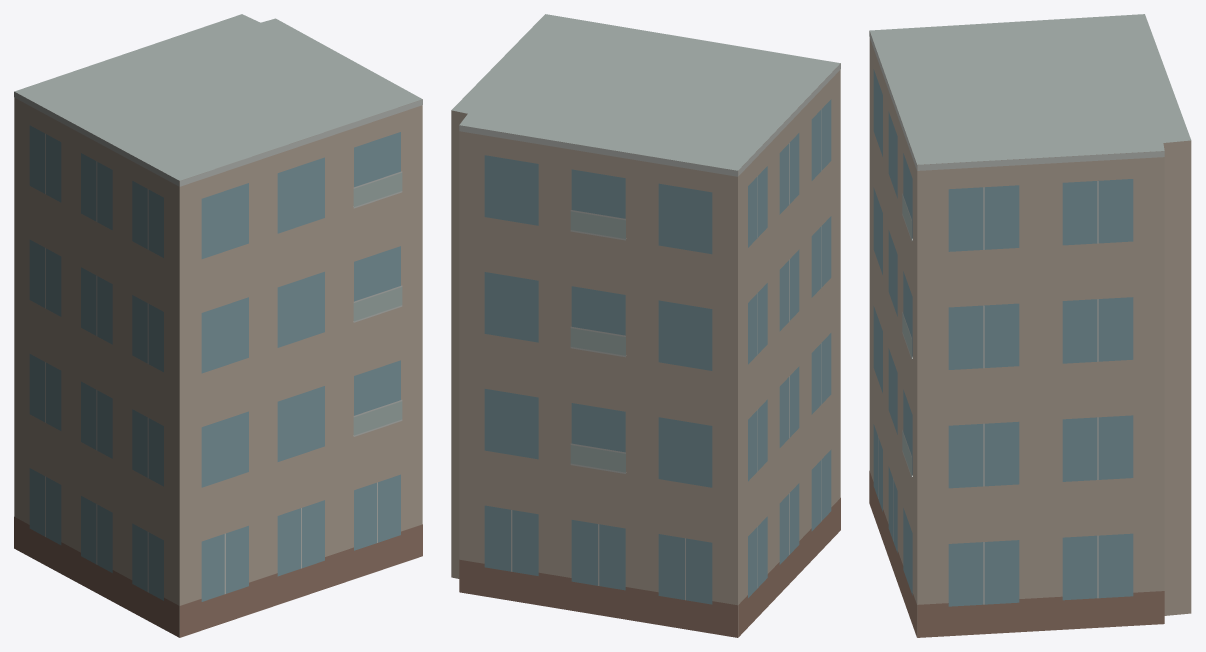
File: survey-upis-32740408.glb
3 views of the same model, side by side, from view 1: azimuth 30°, elevation 25°; view 2: azimuth 150°, elevation 25°; view 3: azimuth 270°, elevation 25° (orthographic). The views are drawn at different scales.
Visible parts, largest first — view 1: survey-upis-32740408.tmp; view 2: survey-upis-32740408.tmp; view 3: survey-upis-32740408.tmp.
Part boxes in pixels (box(x1,y1,x2,y2)): survey-upis-32740408.tmp: box(14, 14, 422, 637); survey-upis-32740408.tmp: box(451, 14, 840, 637); survey-upis-32740408.tmp: box(869, 14, 1191, 637).
Size of the model in its own units: 12.87 by 18.8 by 11.6.
